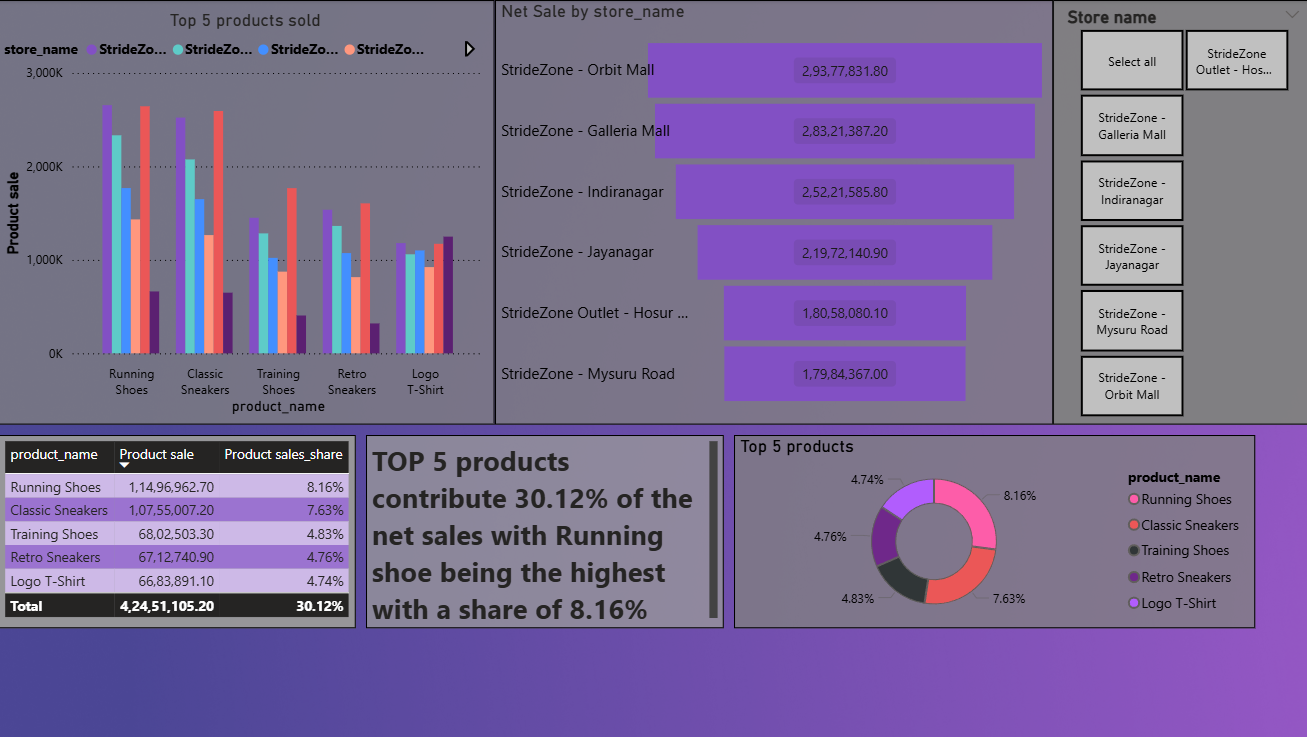

What the dashboard file says about the page in this screenshot:
{"tool":"powerbi","page":{"name":"Product details","canvas":[1280,720],"ordinal":1},"visuals":[{"type":"clusteredColumnChart","title":"Top 5 products sold","fields":{"Category":["retail product_sales.product_name"],"Y":["retail product_sales.Product sale"],"Series":["retail stores.store_name"]},"box":[0,0,483,413],"z":0},{"type":"tableEx","fields":{"Values":["retail product_sales.product_name","retail product_sales.Product sale","retail product_sales.Product sales_share"]},"box":[0,423,348,188],"z":1},{"type":"slicer","fields":{"Values":["retail stores.store_name"]},"box":[1026,0,254,413],"z":2},{"type":"textbox","box":[358,423,348,188],"z":3},{"type":"funnel","fields":{"Category":["retail stores.store_name"],"Y":["retail daily_footfall.Net Sale"]},"box":[483,0,543,413],"z":4},{"type":"donutChart","title":"Top 5 products","fields":{"Category":["retail product_sales.product_name"],"Y":["retail product_sales.Product sales_share"]},"box":[716,423,507,188],"z":5}]}

Visuals, with their boxes in screenshot pixels (x1, y1, x2, y2), scaled from the page's 1280x720 canvas onto the 1307x737 screenshot:
"Top 5 products sold" clusteredColumnChart: {"left": 0, "top": 0, "right": 493, "bottom": 423}
tableEx - retail product_sales.product_name x retail product_sales.Product sale: {"left": 0, "top": 433, "right": 355, "bottom": 625}
slicer - retail stores.store_name: {"left": 1048, "top": 0, "right": 1306, "bottom": 423}
textbox: {"left": 366, "top": 433, "right": 721, "bottom": 625}
funnel - retail stores.store_name x retail daily_footfall.Net Sale: {"left": 493, "top": 0, "right": 1048, "bottom": 423}
"Top 5 products" donutChart: {"left": 731, "top": 433, "right": 1249, "bottom": 625}
